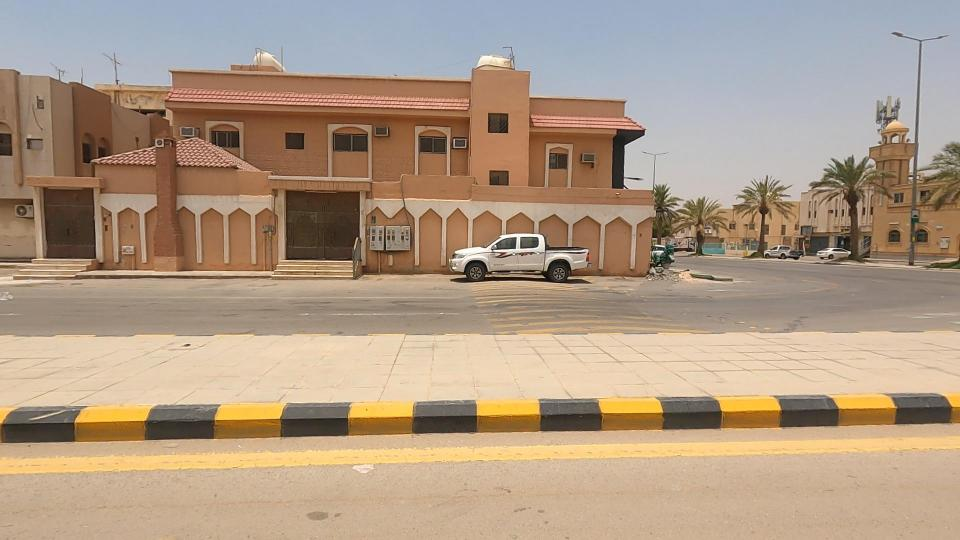GARBAGE: (620, 250, 686, 297)
